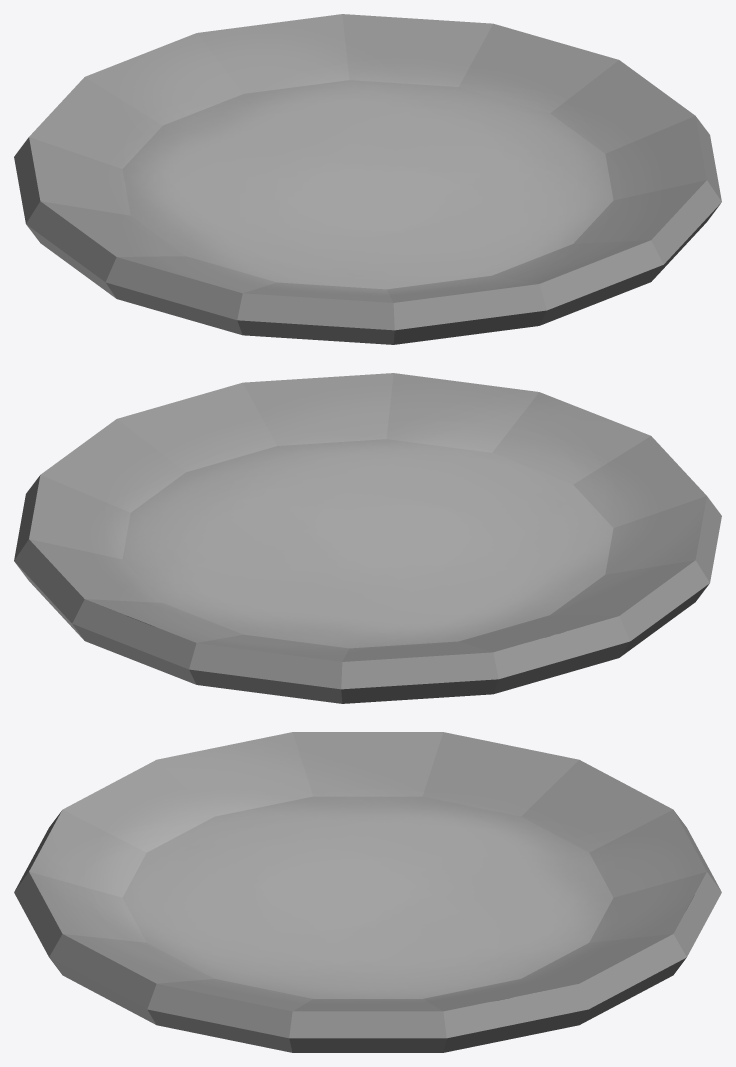
The model's file is Plate.fbx.
The picture shows the model from 3 angles, top to bottom: view 1: azimuth 30°, elevation 25°; view 2: azimuth 150°, elevation 25°; view 3: azimuth 270°, elevation 25°; orthographic projection.
Parts seen in each view (by area): view 1: Plato; view 2: Plato; view 3: Plato.
Part boxes in pixels (bbox=[...]): Plato: bbox=[14, 14, 721, 344]; Plato: bbox=[14, 373, 721, 703]; Plato: bbox=[14, 732, 721, 1052].
Size of the model in its own units: 148 by 15.64 by 151.
